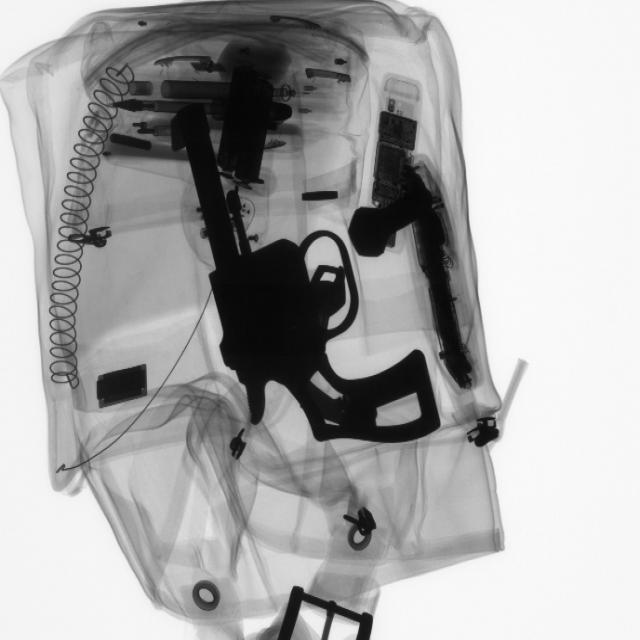GUN: (182, 117, 453, 450)
